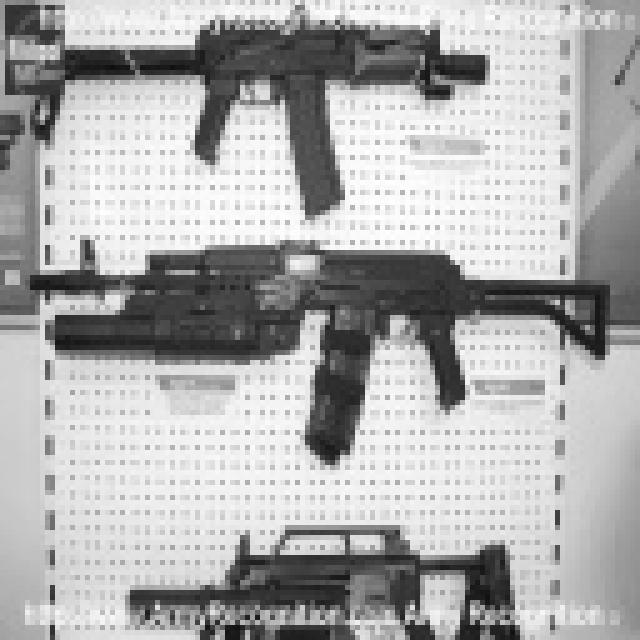Rifle: (0, 228, 629, 470), (0, 0, 519, 225), (80, 500, 555, 640)
